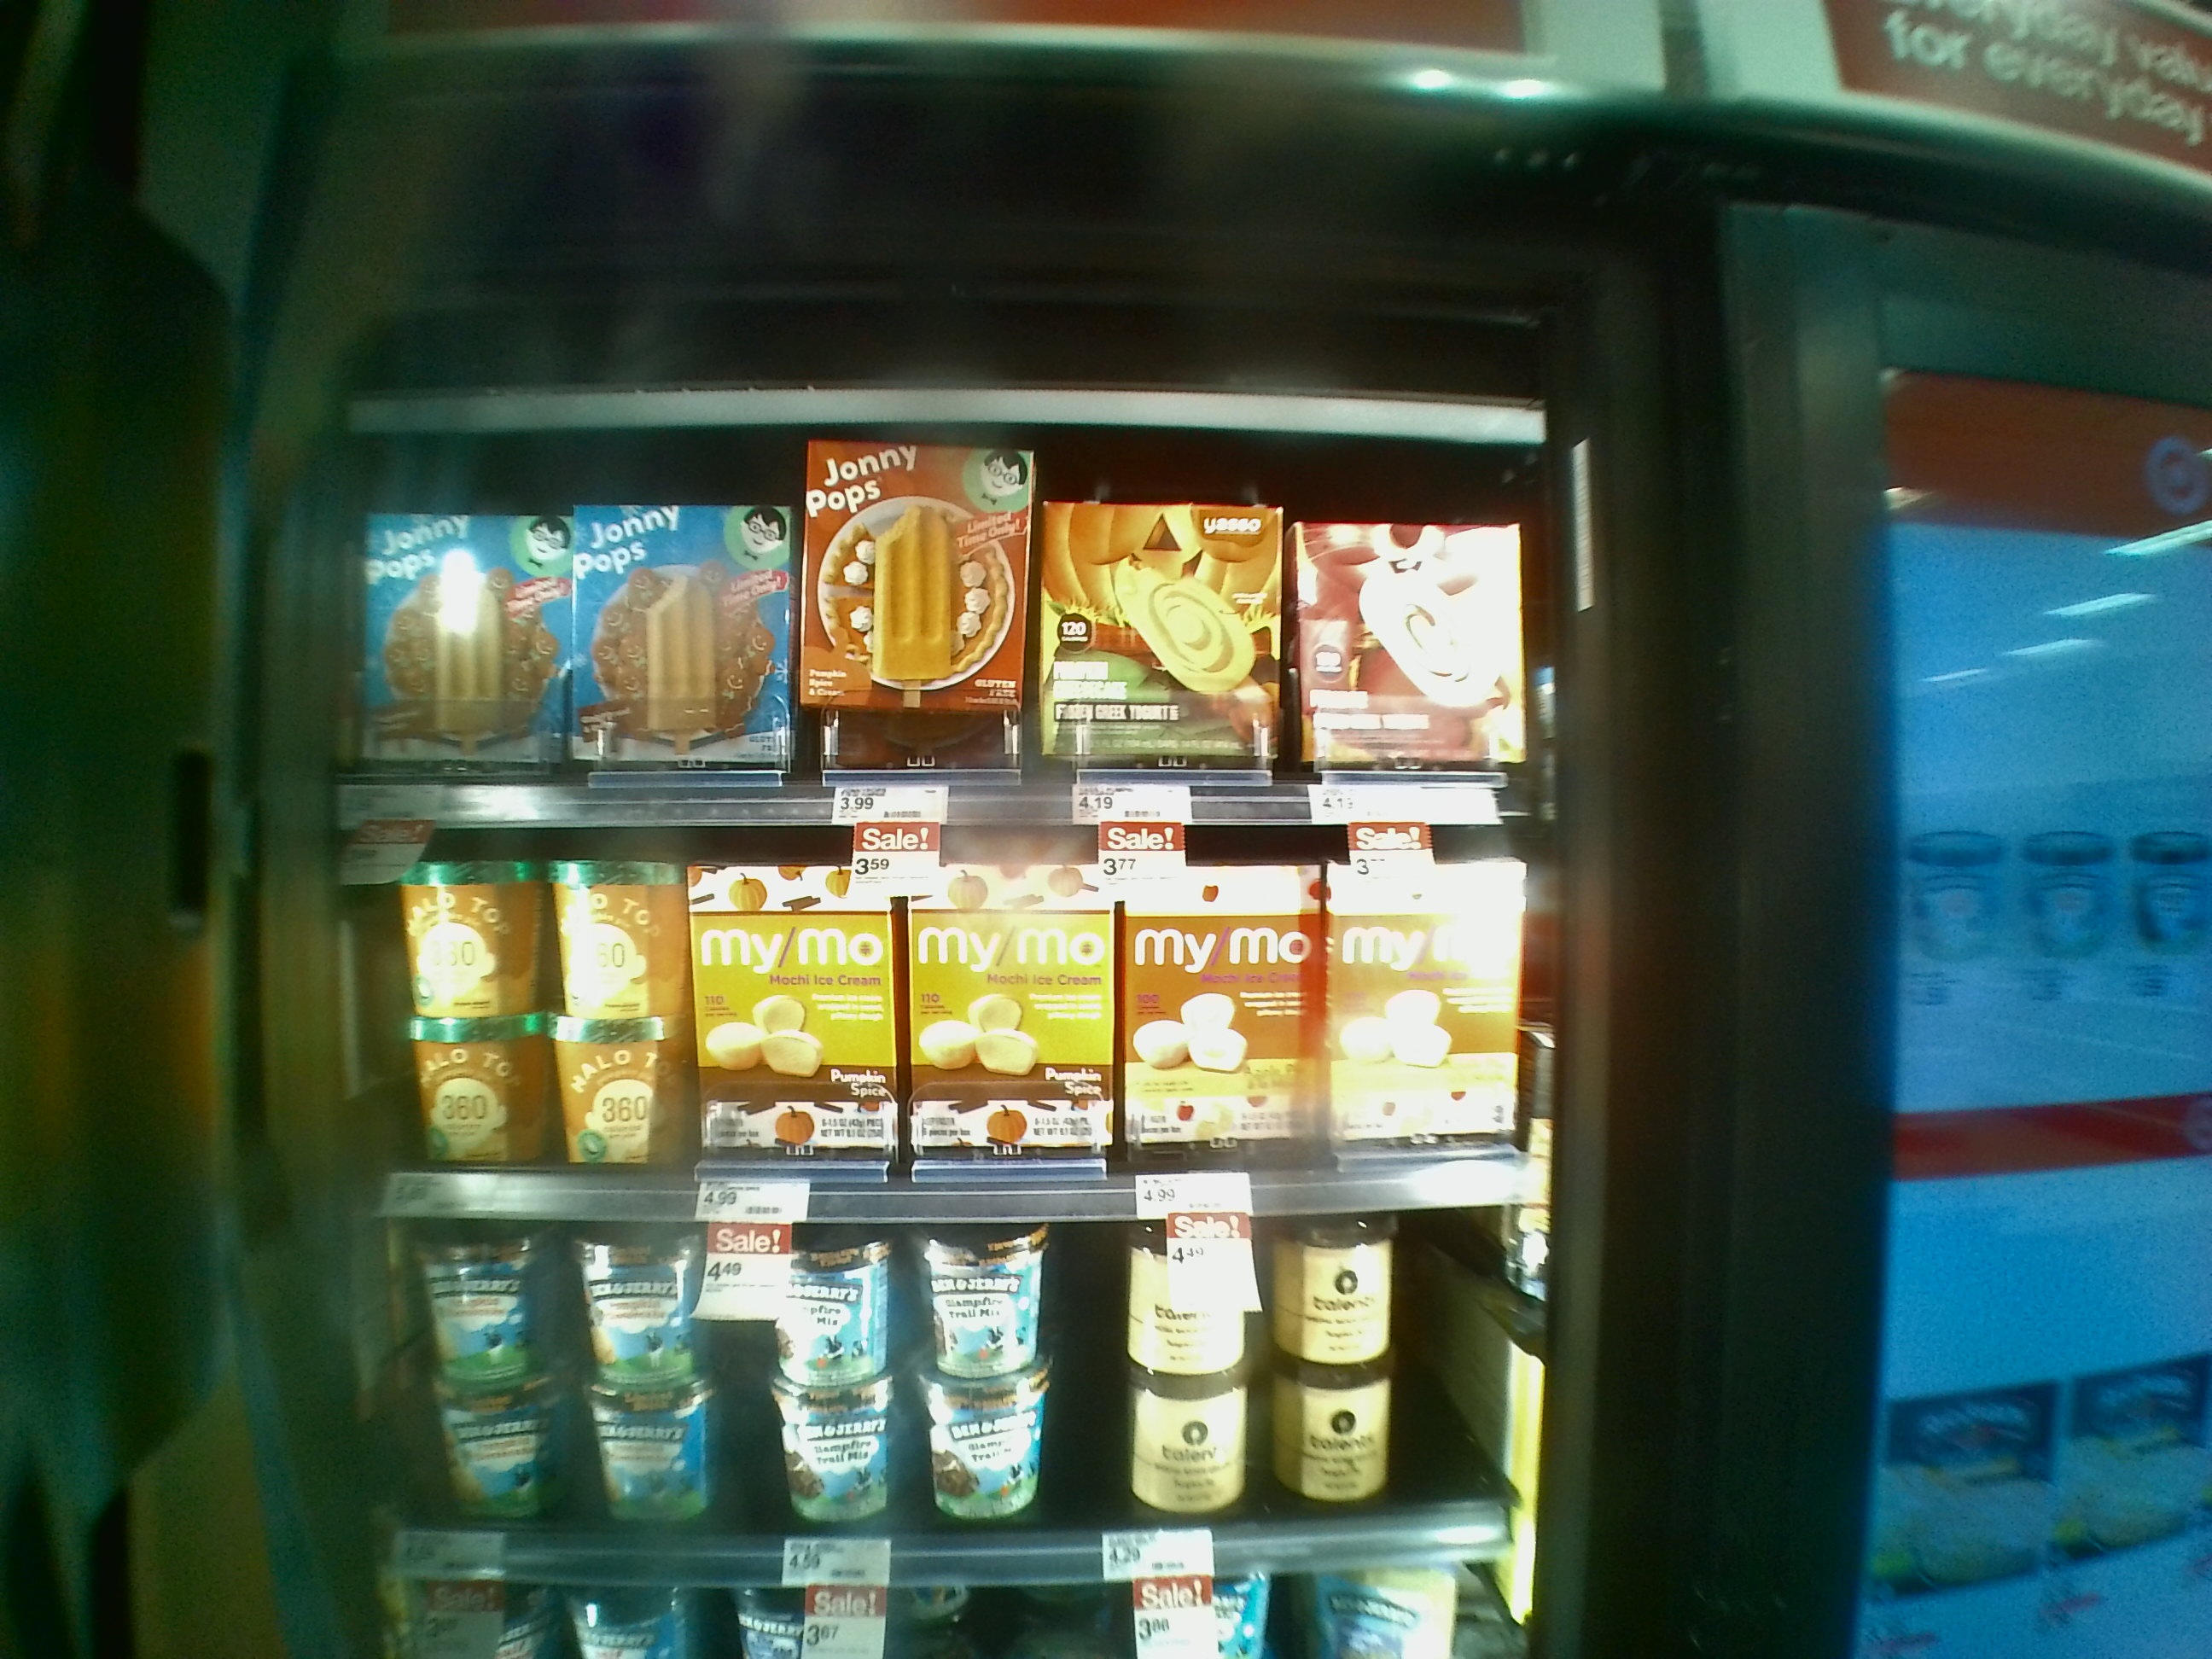shelf: (308, 793, 1554, 1213), (327, 423, 1564, 828), (312, 1195, 1529, 1560)
